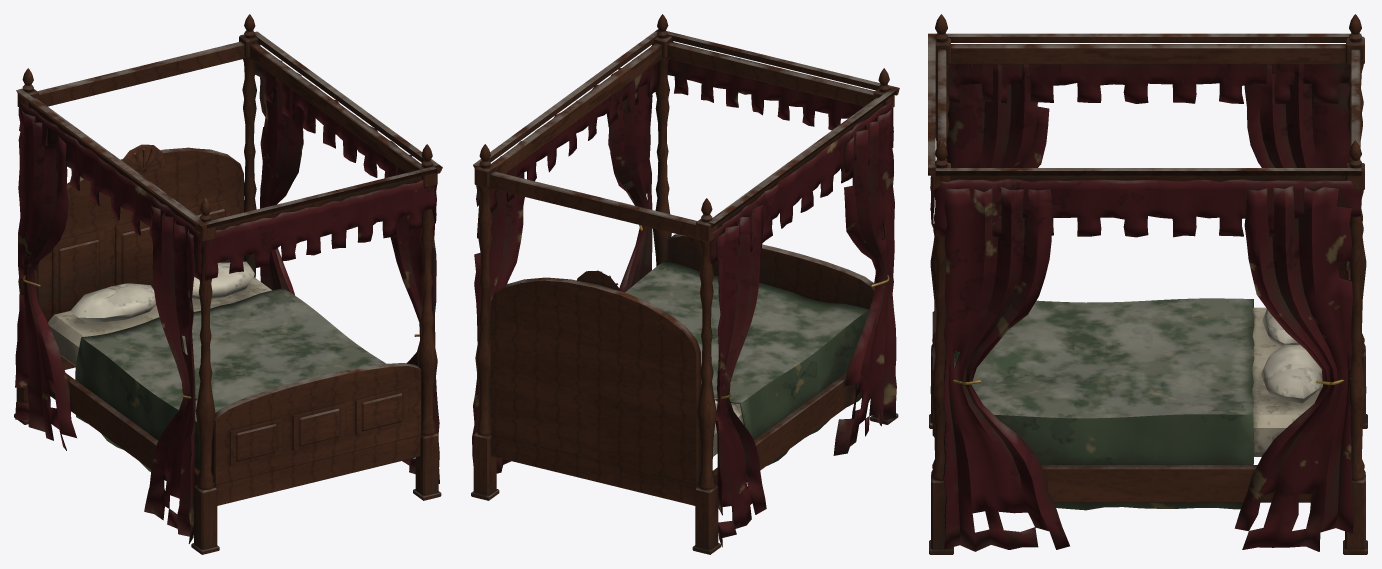
File: FourPosterBed.fbx
3 views of the same model, side by side, from view 1: azimuth 30°, elevation 25°; view 2: azimuth 150°, elevation 25°; view 3: azimuth 270°, elevation 25° (orthographic). The views are drawn at different scales.
Visible parts, largest first — view 1: FourPosterBed; view 2: FourPosterBed; view 3: FourPosterBed.
Part boxes in pixels (left/top/right/bottom): FourPosterBed: left=14, top=14, right=442, bottom=554; FourPosterBed: left=471, top=14, right=899, bottom=554; FourPosterBed: left=928, top=14, right=1367, bottom=554.
Size of the model in its own units: 5.28 by 7.05 by 6.86.
1 material, 1 textured.
